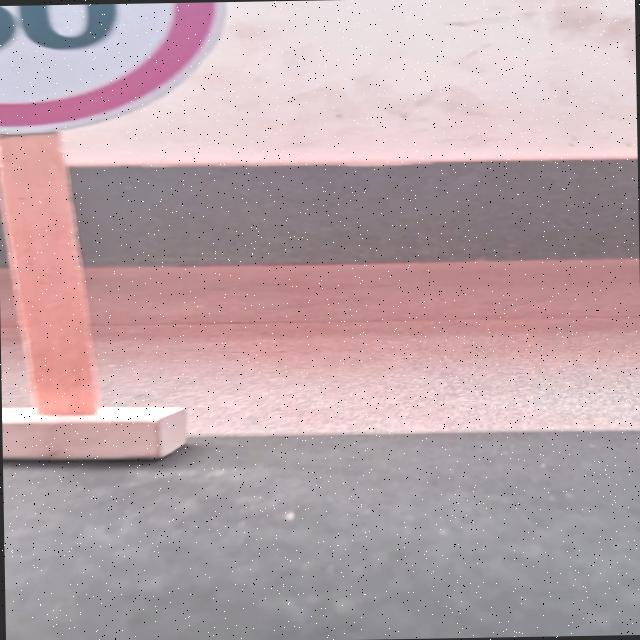Reject: (0, 1, 224, 125)
